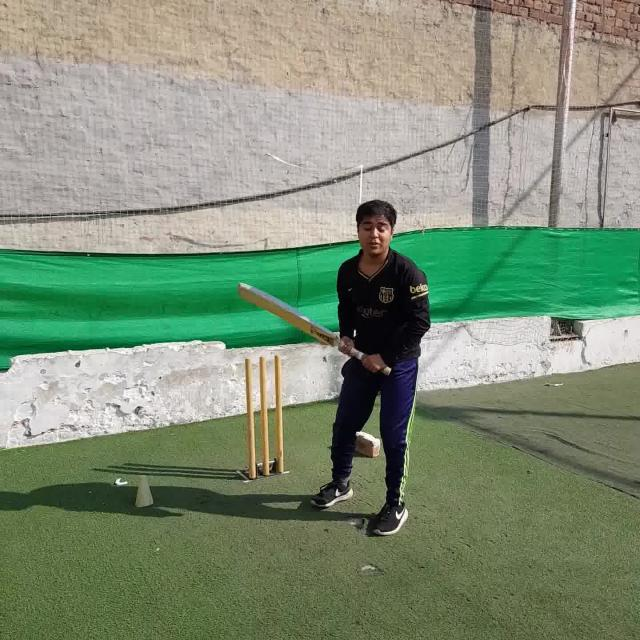bat: (238, 284, 392, 374)
